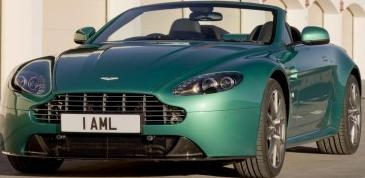front_view: (1, 62, 258, 162)
headlight: (173, 65, 246, 104)
